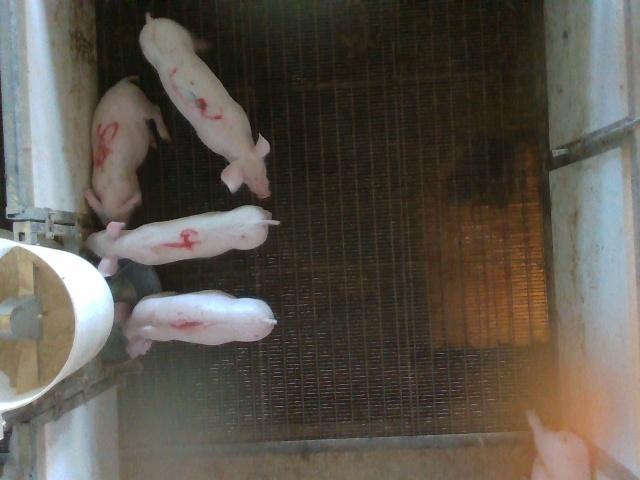pig-1: (114, 290, 276, 357)
pig-3: (139, 14, 270, 198)
pig-4: (86, 205, 279, 276)
pig-5: (85, 76, 170, 224)
